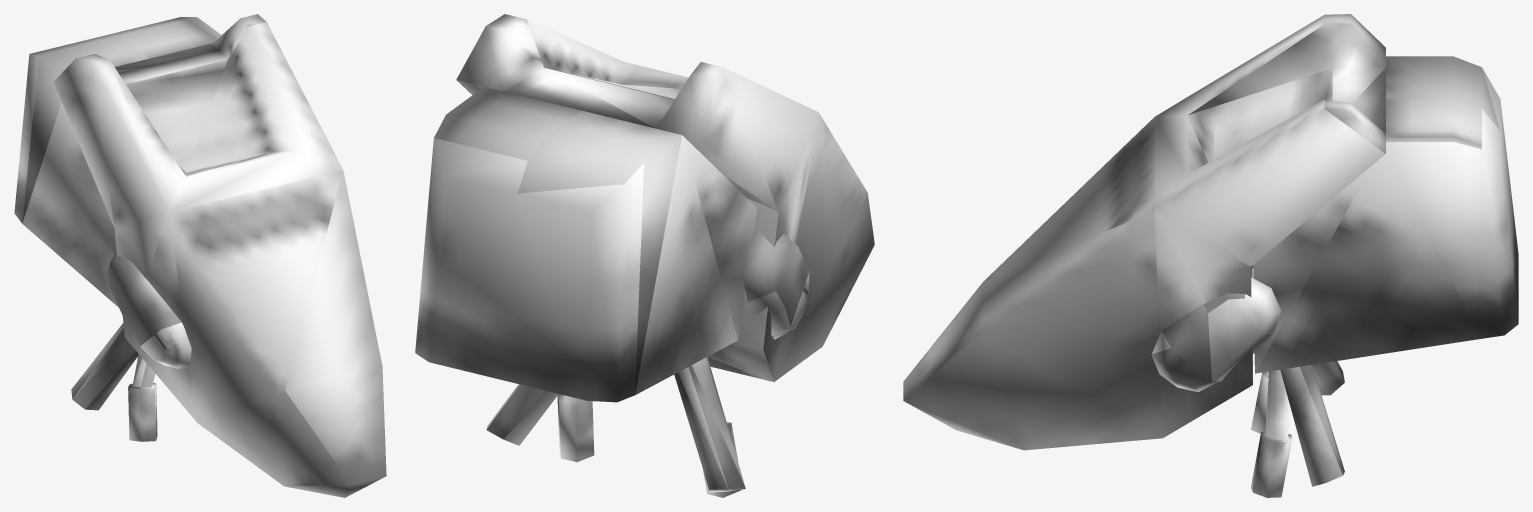
File: h_std.glb
3 renders of one model, left to right at view 1: azimuth 30°, elevation 25°; view 2: azimuth 150°, elevation 25°; view 3: azimuth 270°, elevation 25°, orthographic. The views are drawn at different scales.
Visible parts, largest first — view 1: h_std; view 2: h_std; view 3: h_std.
Boxes of the visible parts, x1,y1,x2,y2 form: h_std: (14, 14, 386, 497); h_std: (415, 14, 874, 497); h_std: (903, 14, 1518, 497).
Size of the model in its own units: 0.6519 by 1.1 by 1.52.
3 materials, 3 textured.
